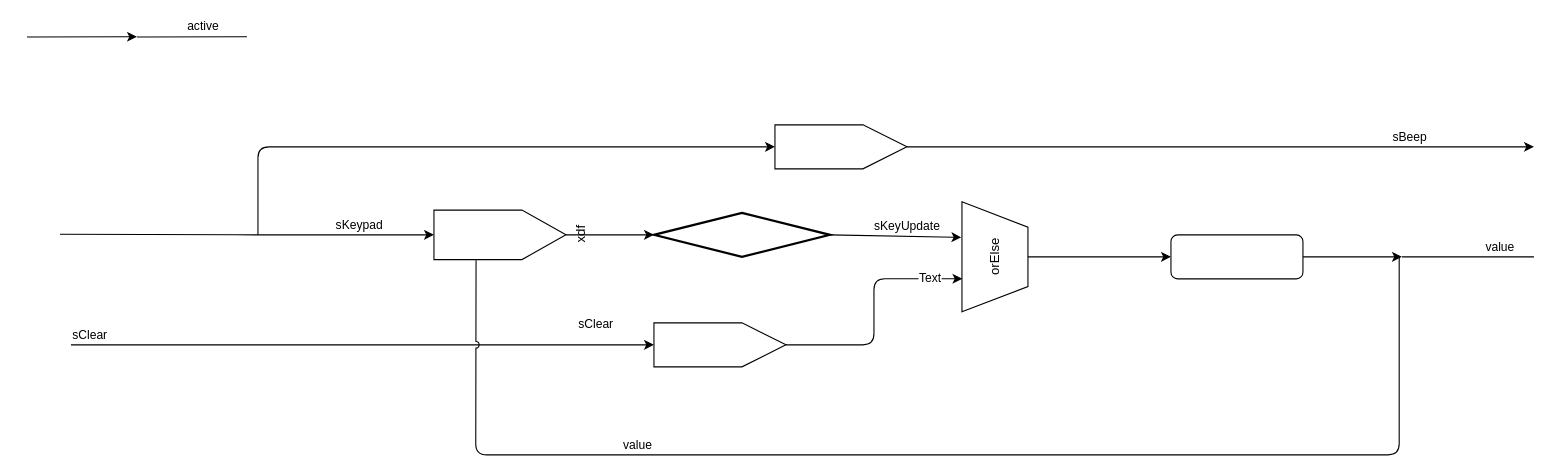
This 1562x475 diagram has some shape labels left out. Here are the shapes that lost their labels. From the top down, the centre of each, then its label:
At (741,234): "filterOptional".
At (1236,256): "hold 0".
